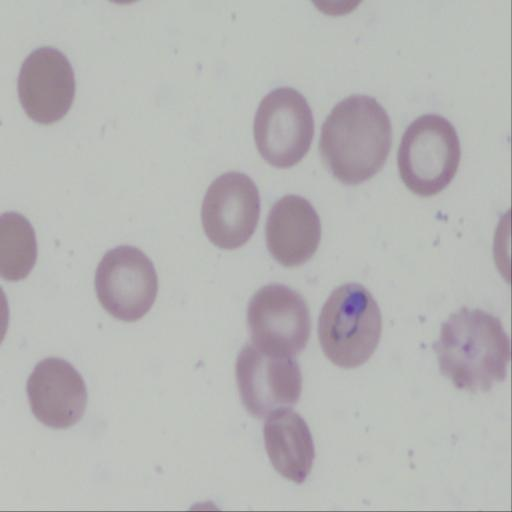Infected: (320, 279, 384, 369)
Uninfected: (436, 307, 512, 394), (322, 96, 387, 183), (198, 170, 261, 251), (398, 115, 459, 197), (253, 88, 314, 169), (237, 340, 301, 417), (247, 280, 311, 355), (96, 246, 157, 320), (28, 356, 87, 431), (20, 48, 75, 125), (264, 195, 320, 267), (262, 408, 315, 484)
